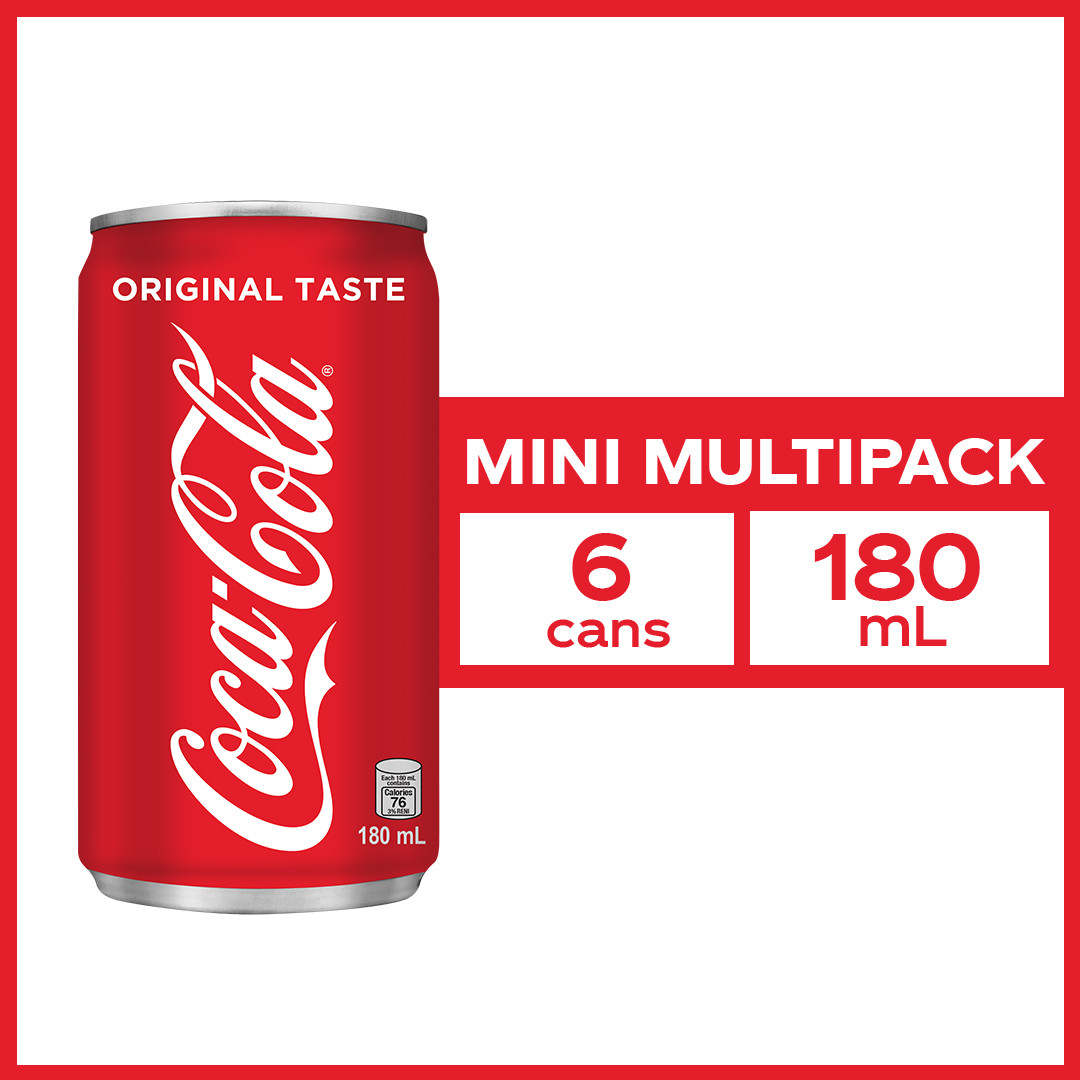cylinder: (78, 201, 440, 916)
